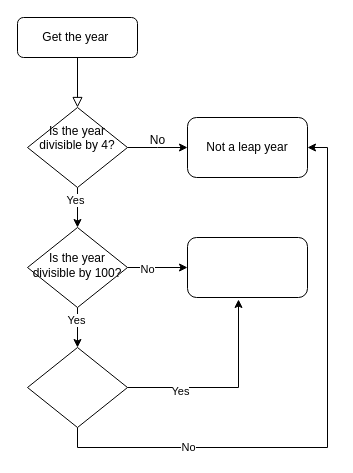
This 353x473 diagram has some shape labels left out. Here are the shapes that lost their labels. From the top down, the centre of each, then its label:
At pixel 247 267: "Leap year".
At pixel 77 387: "Is the year divisible by 400?".
